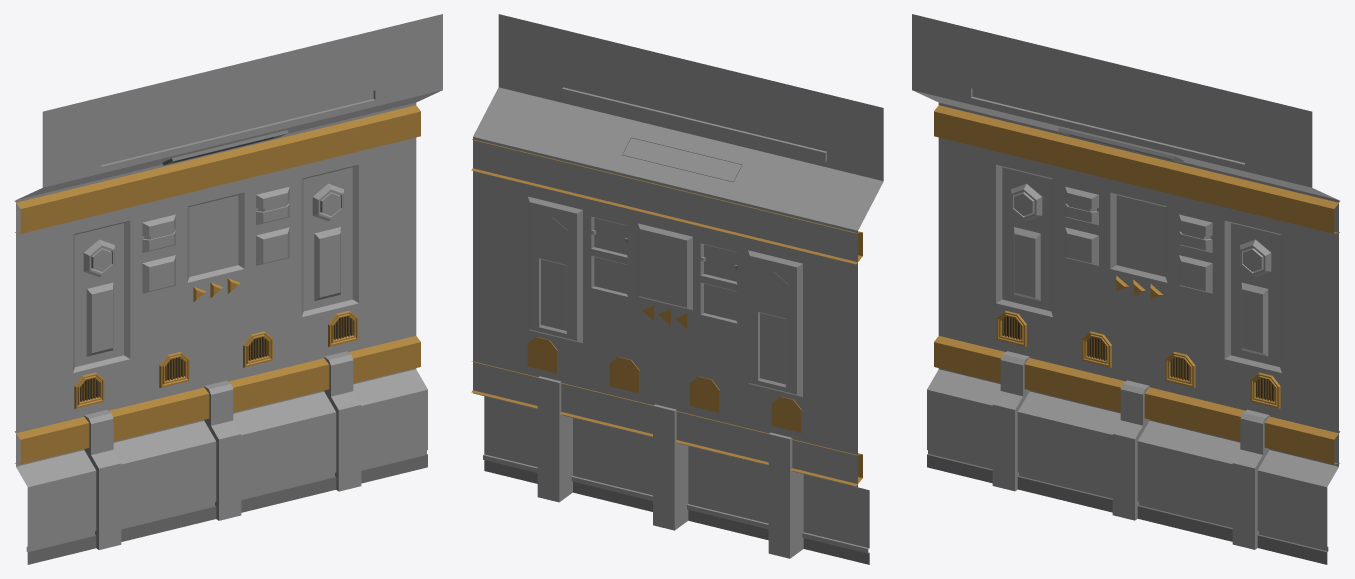
Rendered from Wall_3.glb.
3 views of the same model, side by side, from view 1: azimuth 30°, elevation 25°; view 2: azimuth 150°, elevation 25°; view 3: azimuth 330°, elevation 25° (orthographic). The views are drawn at different scales.
Parts seen in each view (by area): view 1: Wall_3; view 2: Wall_3; view 3: Wall_3.
Boxes of the visible parts, x1,y1,x2,y2 form: Wall_3: [14, 14, 442, 564]; Wall_3: [471, 14, 883, 564]; Wall_3: [912, 14, 1340, 564].
Bounding box in the file's own units: 1.36 × 1.51 × 0.1778.
